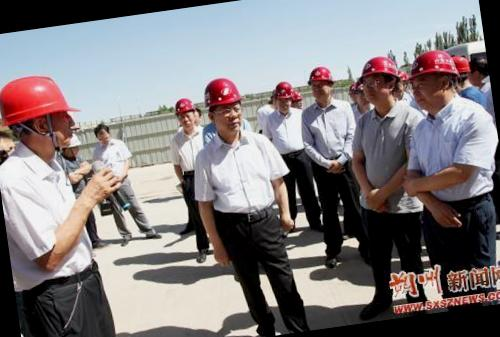no_helmet: (463, 52, 490, 93), (90, 119, 114, 150)
